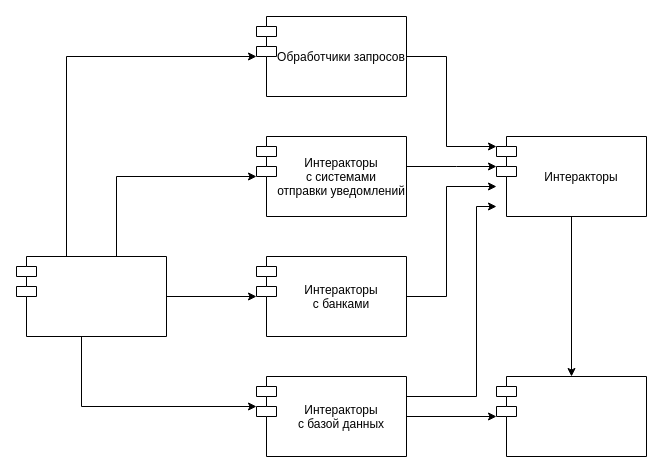
Image size: 663x473. Some labels were removed from this diagram. The centre of each missing label's shape, as x and y in pixels:
Сервер: point (91, 296)
Сущности: point (571, 416)
